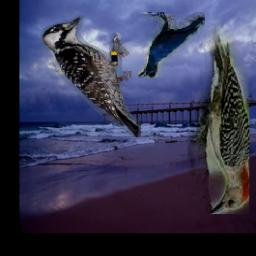Crow: (139, 12, 206, 78)
Woodpecker: (41, 16, 141, 138), (187, 23, 249, 215)
